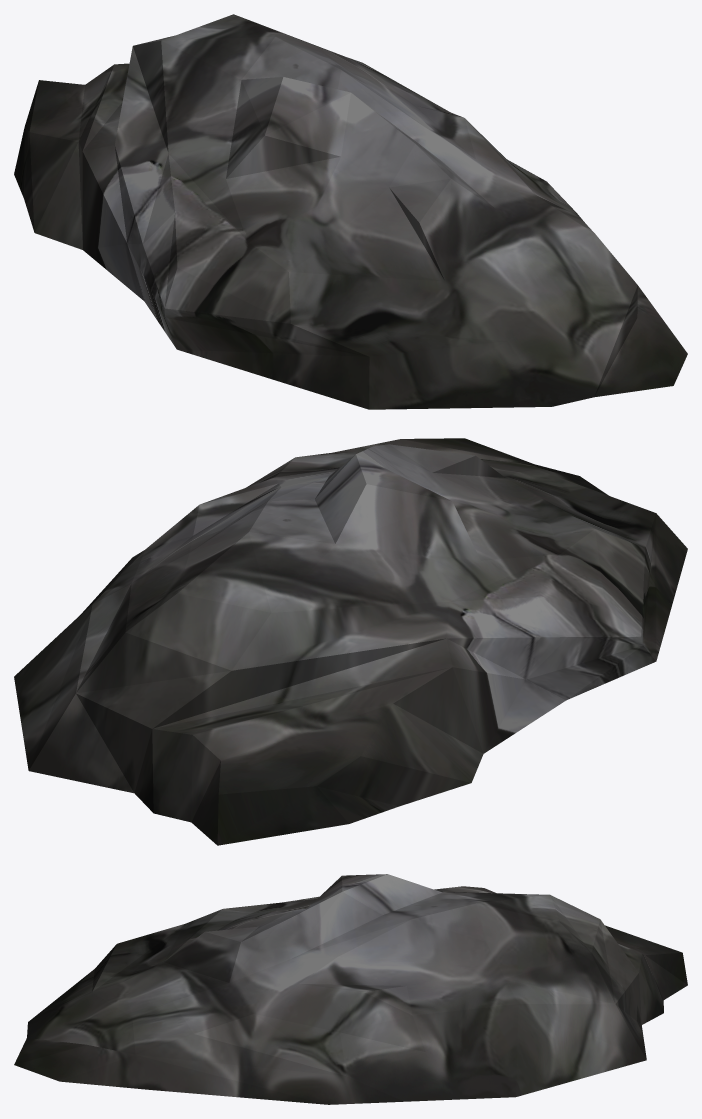
The model's file is fanasty_mod_lar_stone.fbx.
The picture shows the model from 3 angles, top to bottom: view 1: azimuth 30°, elevation 25°; view 2: azimuth 150°, elevation 25°; view 3: azimuth 270°, elevation 25°; orthographic projection. The views are drawn at different scales.
Visible parts, largest first — view 1: large_stone; view 2: large_stone; view 3: large_stone.
Part boxes in pixels (<box>): large_stone: <box>14,14,687,409</box>; large_stone: <box>14,438,687,845</box>; large_stone: <box>14,874,687,1104</box>.
Size of the model in its own units: 2.57 by 0.9595 by 4.38.
